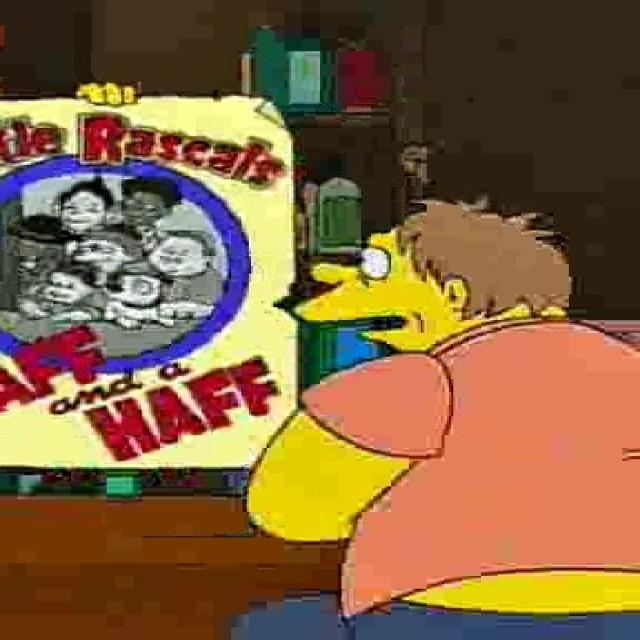Barney Gumble: (291, 194, 571, 350)
